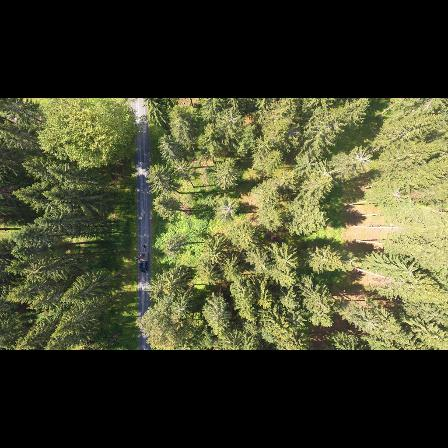Sick: (212, 195, 243, 224), (346, 144, 378, 171), (214, 104, 244, 131), (169, 157, 193, 178)
